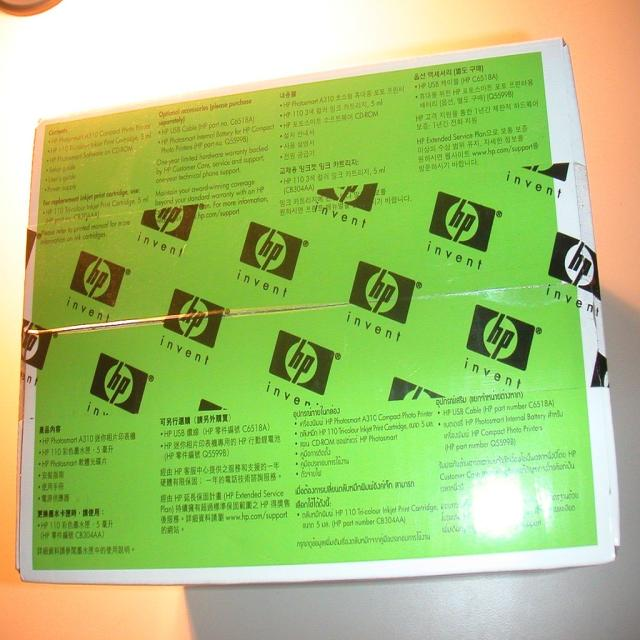HP: (466, 301, 539, 373), (268, 326, 338, 398), (349, 258, 420, 327), (429, 188, 500, 256), (236, 219, 305, 285), (547, 229, 604, 305), (89, 350, 152, 418), (164, 285, 226, 352), (67, 248, 128, 311), (139, 202, 201, 245), (19, 314, 56, 373), (317, 182, 381, 214)
